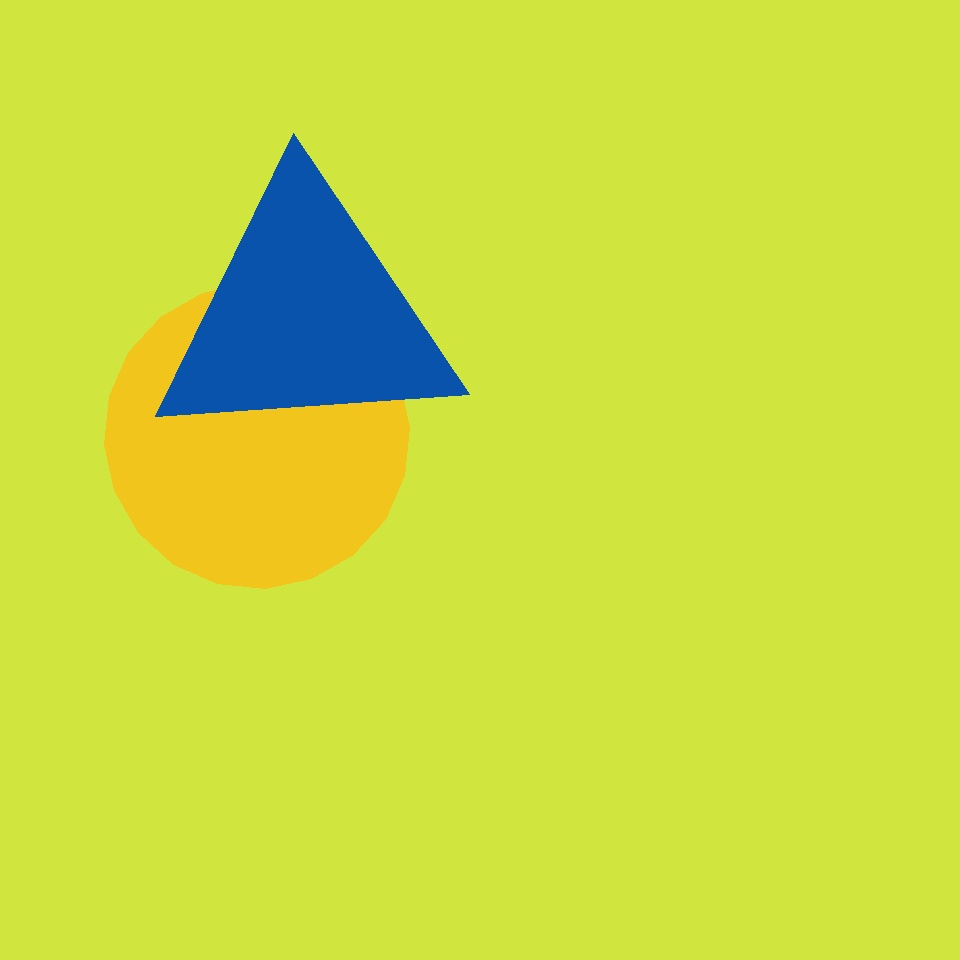circle: (507, 130, 799, 439), (149, 174, 463, 456)
triangle: (104, 284, 409, 588), (87, 203, 362, 477), (348, 502, 581, 734), (239, 596, 468, 825), (571, 408, 731, 567)
